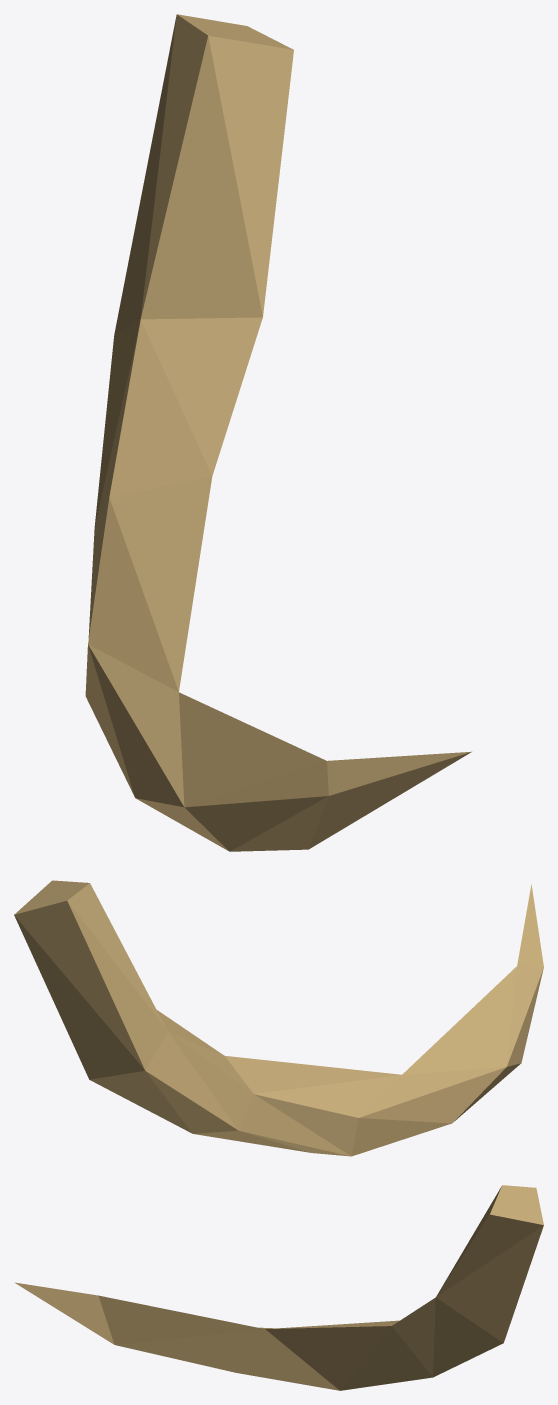
Rendered from Horn2.fbx.
3 renders of one model, top to bottom at view 1: azimuth 30°, elevation 25°; view 2: azimuth 150°, elevation 25°; view 3: azimuth 270°, elevation 25°, orthographic. The views are drawn at different scales.
Visible parts, largest first — view 1: Mammoth.001; view 2: Mammoth.001; view 3: Mammoth.001.
Boxes of the visible parts, x1=… form: Mammoth.001: x1=85, y1=14, x2=471, y2=851; Mammoth.001: x1=14, y1=880, x2=543, y2=1156; Mammoth.001: x1=14, y1=1185, x2=543, y2=1390.
Size of the model in its own units: 0.3036 by 0.3437 by 0.6494.
